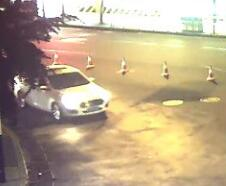car: (15, 58, 112, 121)
